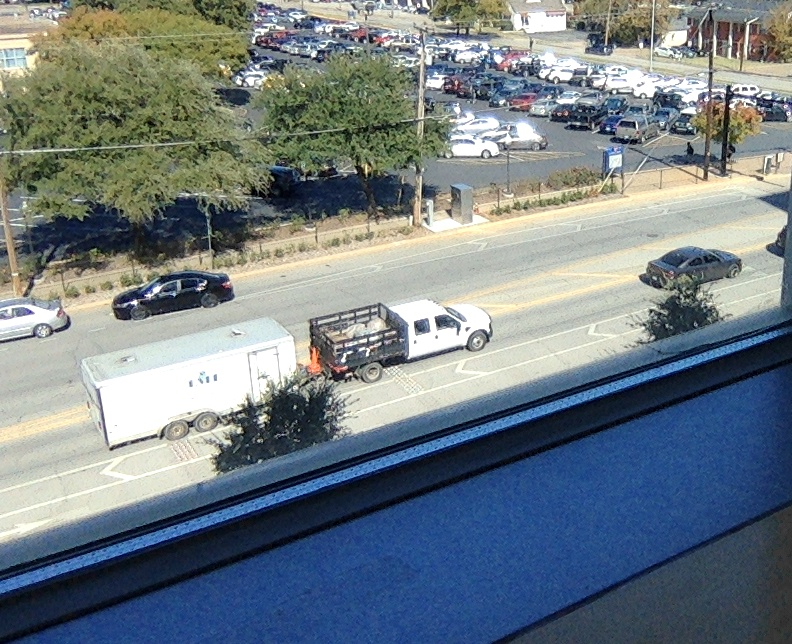car: (300, 300, 492, 384)
